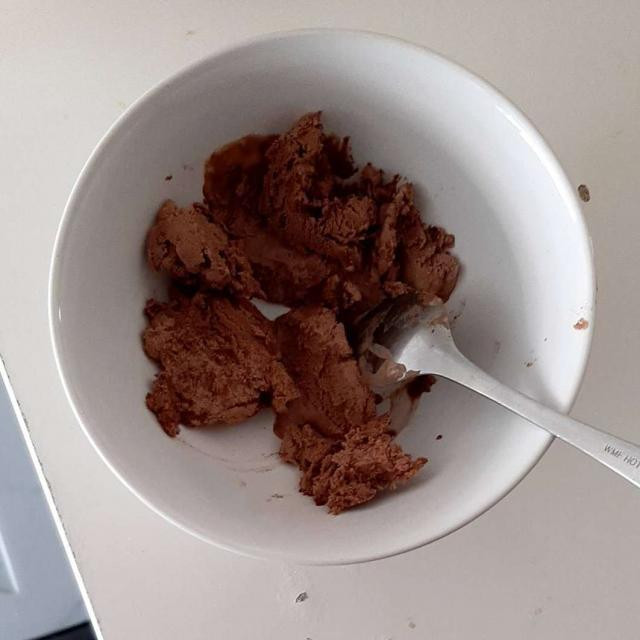ice-cream: (149, 119, 456, 505)
